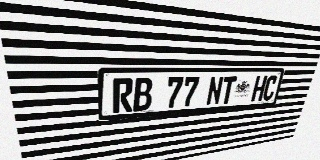7: (164, 77, 184, 109), (181, 77, 200, 108)
B: (133, 78, 153, 112)
C: (262, 76, 278, 101)
H: (251, 76, 268, 102)
N: (206, 76, 224, 105)
R: (113, 78, 133, 113)
T: (219, 76, 237, 104)
